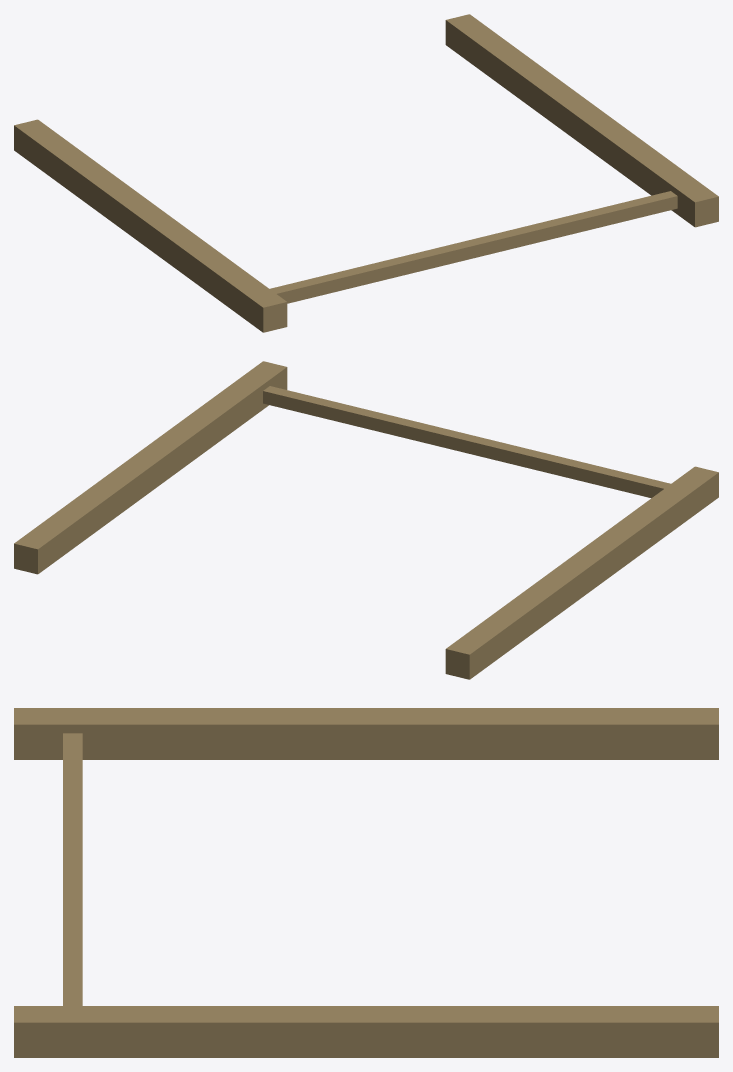
File: SM_ShWashLine.obj
The picture shows the model from 3 angles, top to bottom: view 1: azimuth 30°, elevation 25°; view 2: azimuth 150°, elevation 25°; view 3: azimuth 270°, elevation 25°; orthographic projection. The views are drawn at different scales.
Parts seen in each view (by area): view 1: SM_ShWashLine; view 2: SM_ShWashLine; view 3: SM_ShWashLine.
Boxes of the visible parts, left/top/right/bottom form: SM_ShWashLine: left=14, top=14, right=718, bottom=332; SM_ShWashLine: left=14, top=361, right=718, bottom=679; SM_ShWashLine: left=14, top=708, right=718, bottom=1057.
Bounding box in the file's own units: 190 × 10 × 180.
